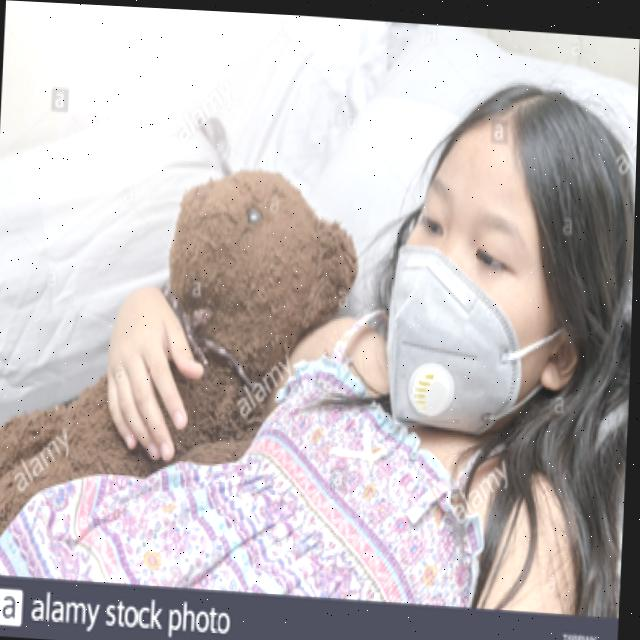Mask: (390, 237, 587, 425)
